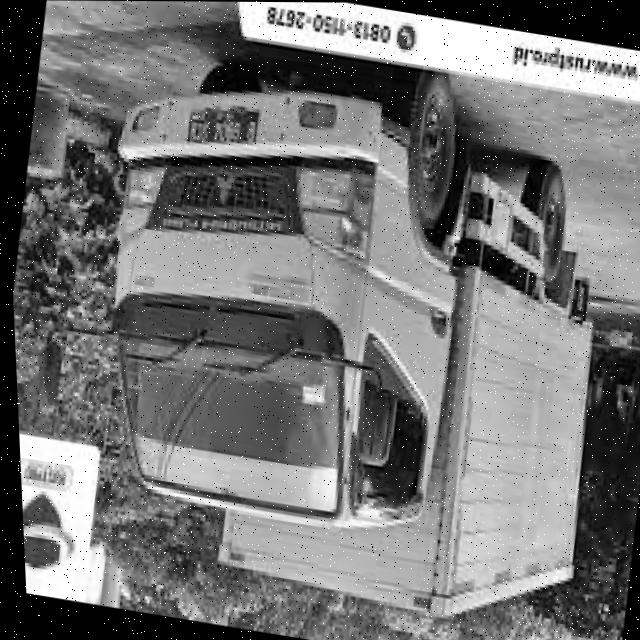truck: (35, 27, 519, 572)
